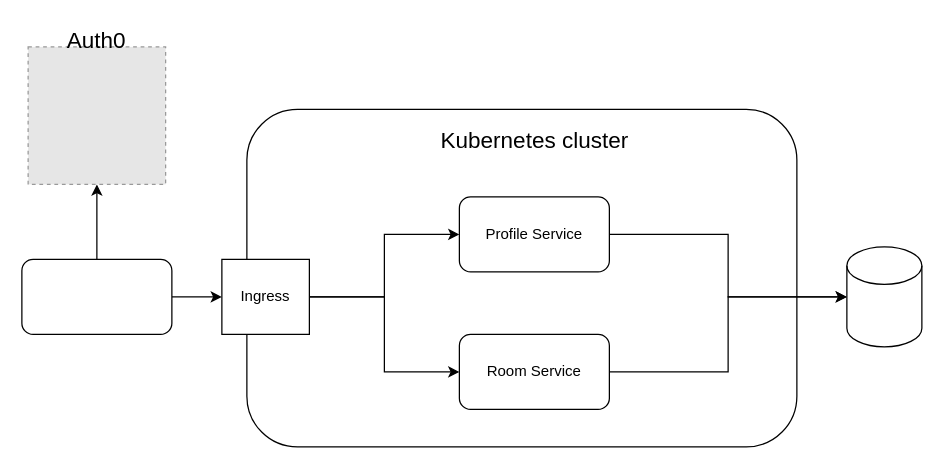
Some shapes in this 944 by 469 pixel diagram are drawn without their labels. Grey dashed boxes stand in for pictures. Each missing label, with the centre of its shape:
"Frontend" goes at pixel 96 296.
"MongoDB" goes at pixel 884 296.
